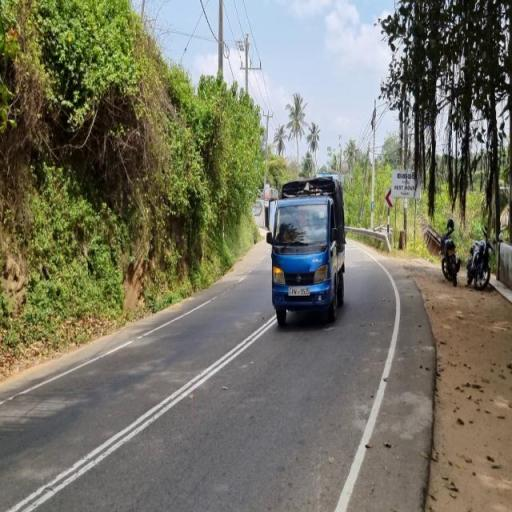double_white_line: (10, 316, 276, 510)
